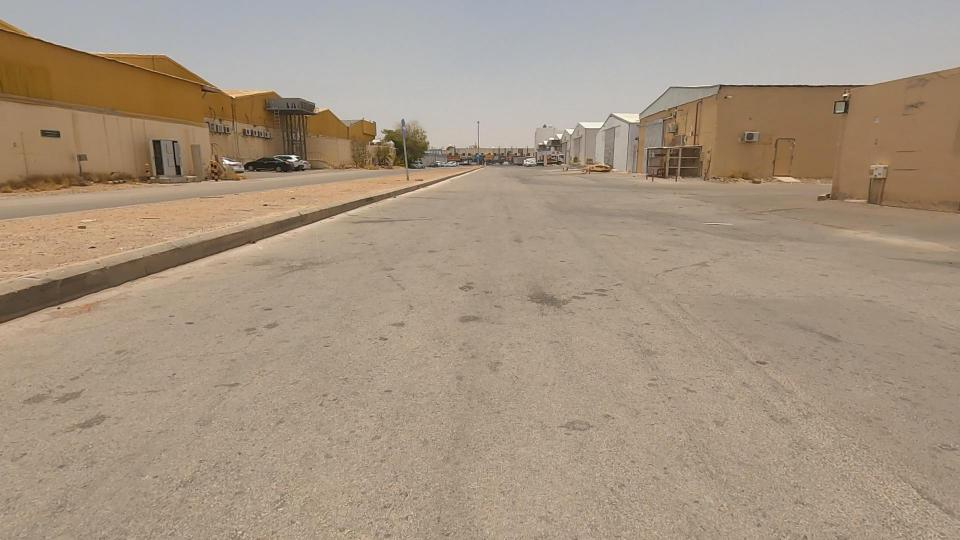GARBAGE: (9, 167, 309, 274), (220, 158, 413, 225)
